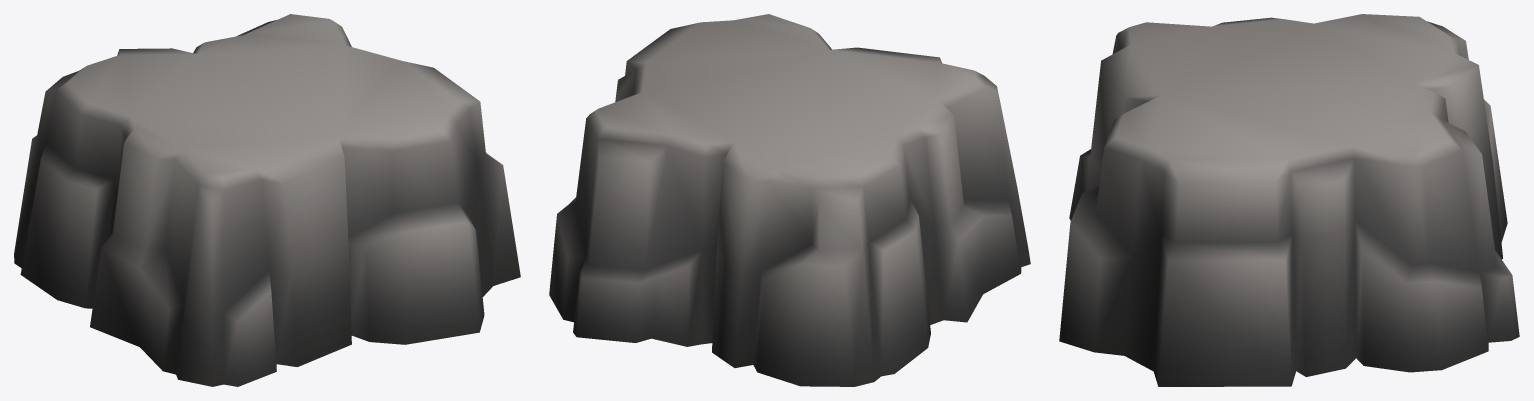
Rendered from m_Cliff04_A.fbx.
3 renders of one model, left to right at view 1: azimuth 30°, elevation 25°; view 2: azimuth 150°, elevation 25°; view 3: azimuth 270°, elevation 25°, orthographic. The views are drawn at different scales.
Visible parts, largest first — view 1: m_Cliff04_A; view 2: m_Cliff04_A; view 3: m_Cliff04_A.
Boxes of the visible parts, x1,y1,x2,y2 form: m_Cliff04_A: (14,14,520,386); m_Cliff04_A: (549,14,1030,386); m_Cliff04_A: (1059,14,1519,386).
Bounding box in the file's own units: 2113 × 1000 × 2110.
